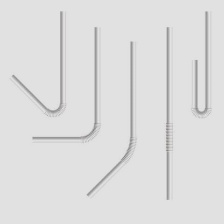drinking_straw: (29, 23, 105, 150), (82, 37, 140, 202), (6, 6, 71, 121), (185, 7, 215, 123), (161, 21, 176, 205)
